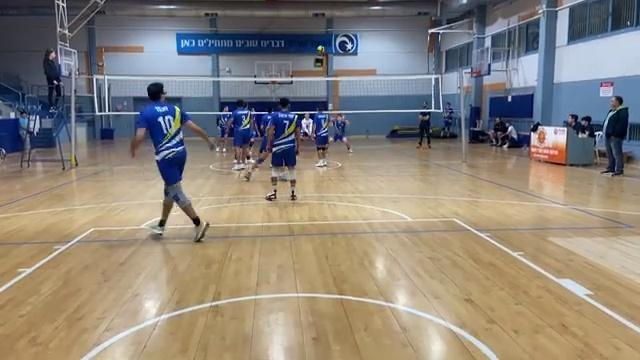ball: (316, 45, 324, 52)
